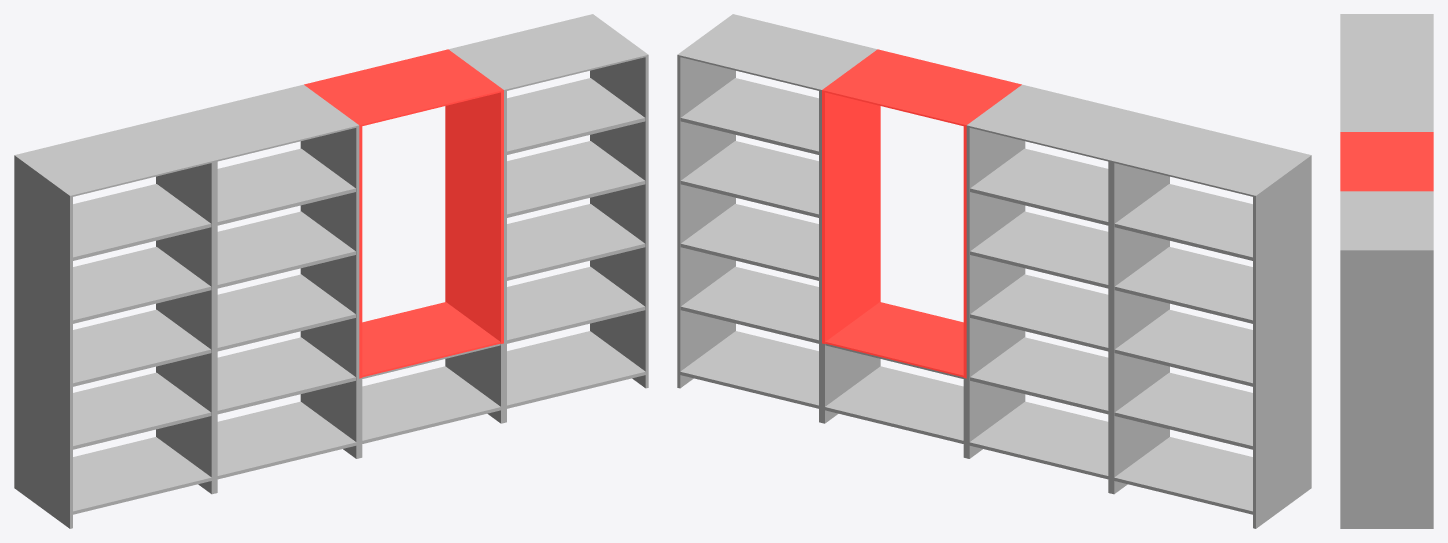
The model's file is ShelfMk2.fbx.
The picture shows the model from 3 angles, left to right: view 1: azimuth 30°, elevation 25°; view 2: azimuth 150°, elevation 25°; view 3: azimuth 270°, elevation 25°; orthographic projection. The views are drawn at different scales.
Visible parts, largest first — view 1: ShelfMk2; view 2: ShelfMk2; view 3: ShelfMk2.
Part boxes in pixels (x1,y1,x2,y2): ShelfMk2: (14, 14, 648, 528); ShelfMk2: (677, 14, 1311, 528); ShelfMk2: (1340, 14, 1433, 528).
Size of the model in its own units: 1200 by 660 by 200.
